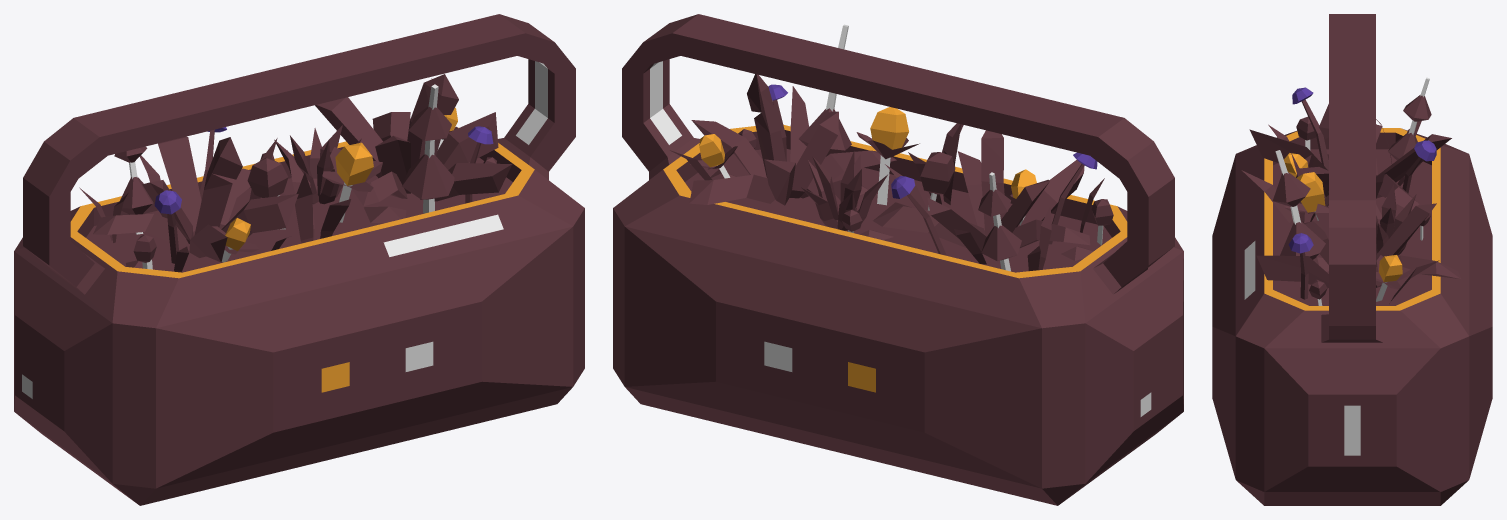
Rendered from scifi-pot-medium-plants.fbx.
3 views of the same model, side by side, from view 1: azimuth 30°, elevation 25°; view 2: azimuth 150°, elevation 25°; view 3: azimuth 270°, elevation 25° (orthographic). The views are drawn at different scales.
Parts seen in each view (by area): view 1: scifi-pot-medium-plants; view 2: scifi-pot-medium-plants; view 3: scifi-pot-medium-plants.
Part boxes in pixels (left/top/right/bottom): scifi-pot-medium-plants: left=14, top=14, right=584, bottom=505; scifi-pot-medium-plants: left=613, top=14, right=1183, bottom=505; scifi-pot-medium-plants: left=1212, top=14, right=1492, bottom=505.
Size of the model in its own units: 2.02 by 1.26 by 1.04.
